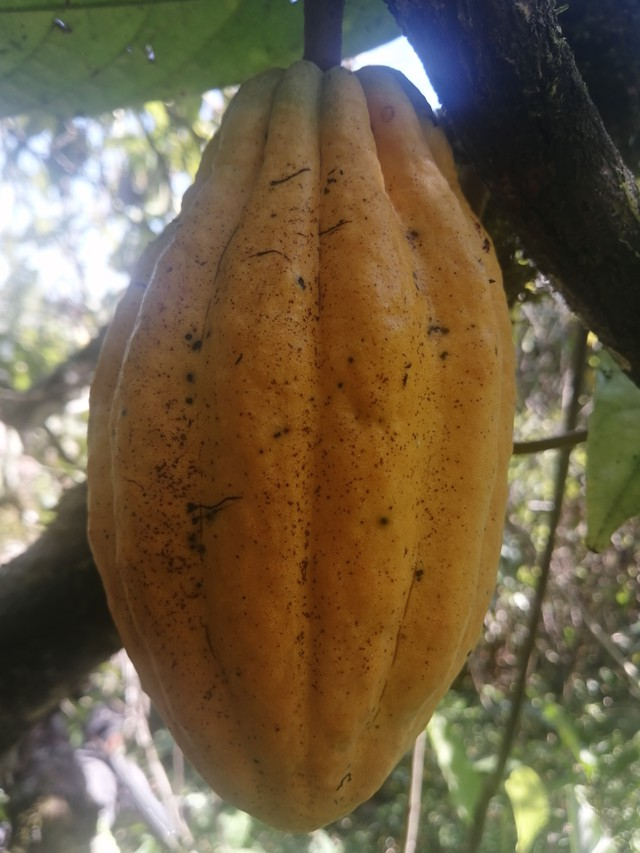Health: (63, 51, 522, 837)
